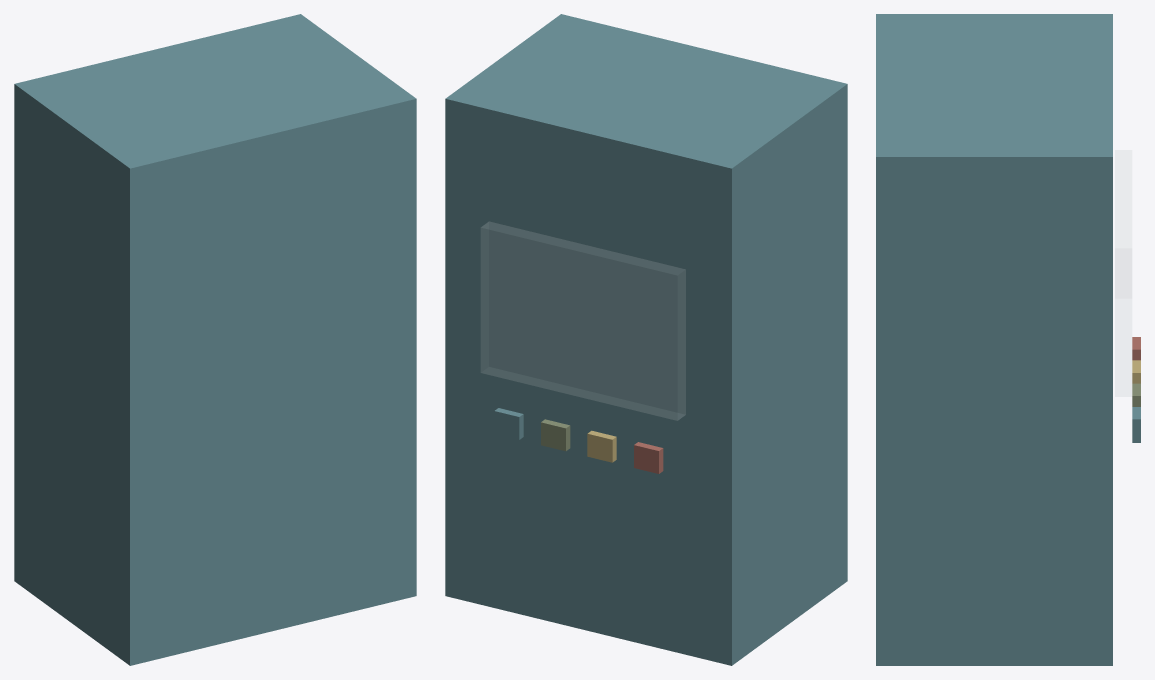
The model's file is iz2_mission_supply_seal.glb.
3 renders of one model, left to right at view 1: azimuth 30°, elevation 25°; view 2: azimuth 150°, elevation 25°; view 3: azimuth 270°, elevation 25°, orthographic. The views are drawn at different scales.
Visible parts, largest first — view 1: body; view 2: body, screen; view 3: body, screen.
Boxes of the visible parts, box(x1,y1,x2,y2) form: body: box(14, 14, 416, 665); body: box(445, 14, 847, 665); screen: box(481, 222, 685, 420); body: box(876, 14, 1140, 665); screen: box(1115, 150, 1131, 396).
Size of the model in its own units: 0.7777 by 1.29 by 0.6089.
